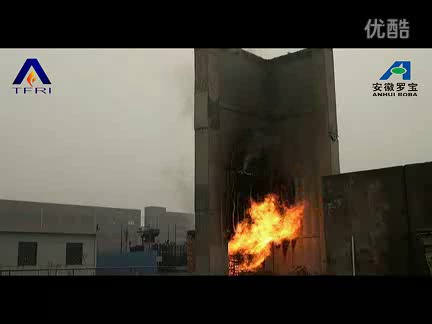fire: (226, 187, 307, 277)
